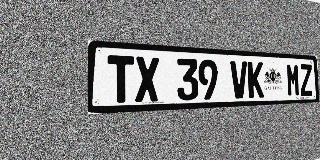3: (177, 58, 198, 101)
9: (198, 59, 218, 100)
K: (247, 61, 264, 98)
M: (286, 63, 300, 97)
T: (108, 55, 134, 103)
V: (230, 61, 248, 99)
X: (135, 56, 159, 102)
Z: (299, 64, 313, 96)
